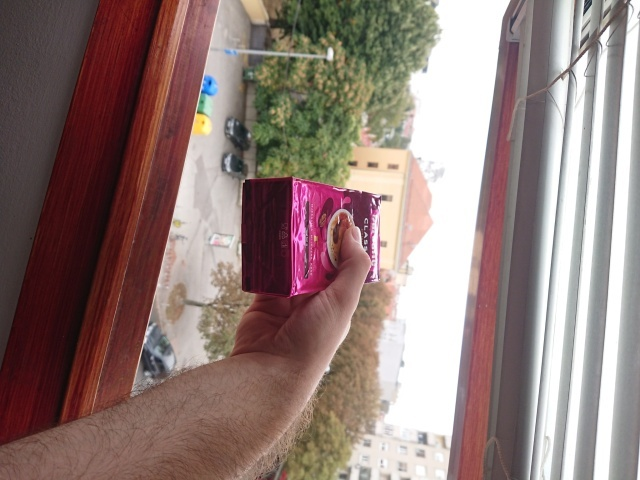Barcaffe Classic Original 225g: (240, 174, 384, 301)
